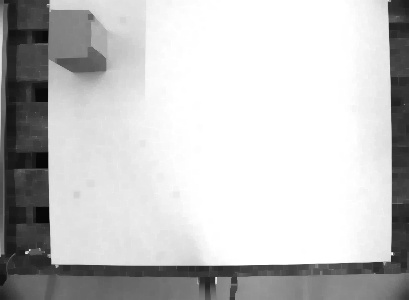b5: (45, 6, 108, 74)
